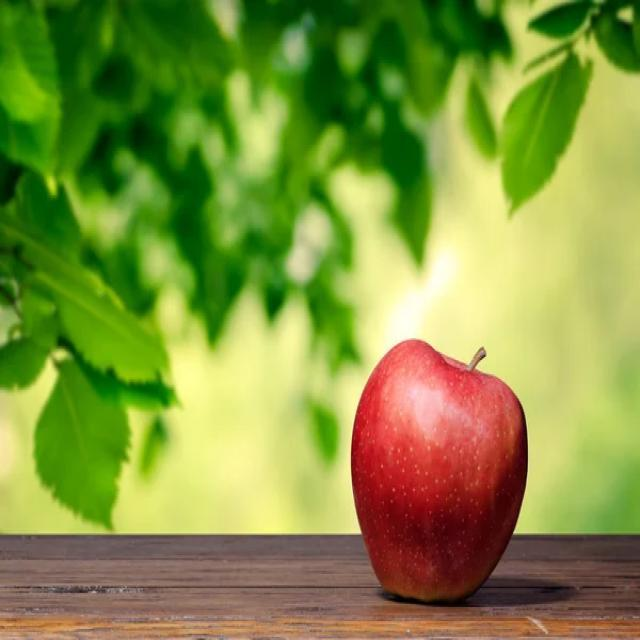Fresh Apple: (353, 327, 530, 608)
